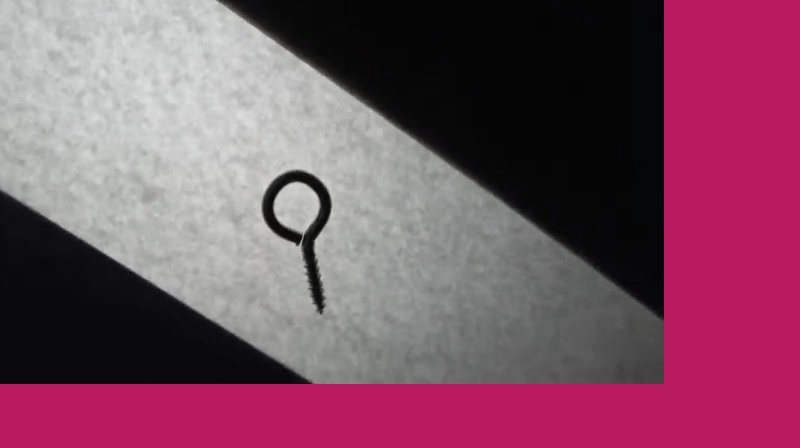O001: (255, 166, 333, 316)
